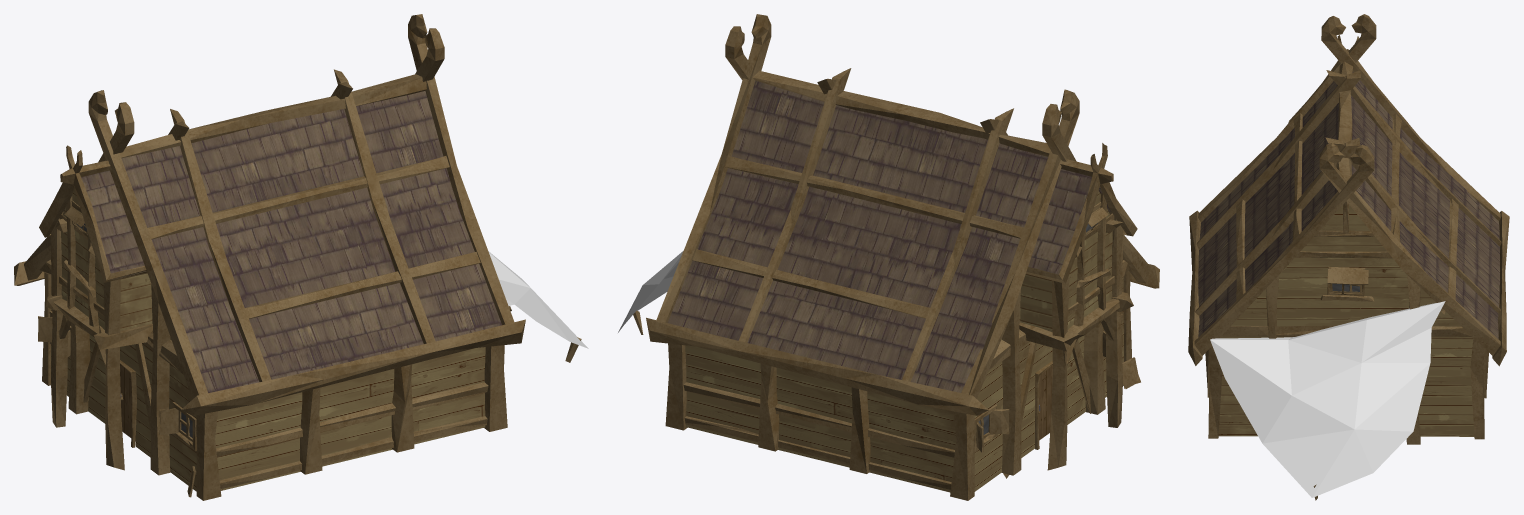
File: House_two.fbx
3 renders of one model, left to right at view 1: azimuth 30°, elevation 25°; view 2: azimuth 150°, elevation 25°; view 3: azimuth 270°, elevation 25°, orthographic. The views are drawn at different scales.
Parts seen in each view (by area): view 1: корпус.001, балки.018, ткань.002; view 2: корпус.001, балки.018, ткань.002; view 3: корпус.001, балки.018, ткань.002.
Boxes of the visible parts, x1,y1,x2,y2 form: корпус.001: (51, 91, 501, 491); балки.018: (14, 14, 581, 500); ткань.002: (488, 251, 588, 348); корпус.001: (667, 80, 1123, 492); балки.018: (633, 14, 1159, 500); ткань.002: (618, 251, 683, 332); корпус.001: (1198, 72, 1499, 436); балки.018: (1188, 14, 1509, 500); ткань.002: (1210, 301, 1445, 497).
Size of the model in its own units: 2278 by 1539 by 1475.
